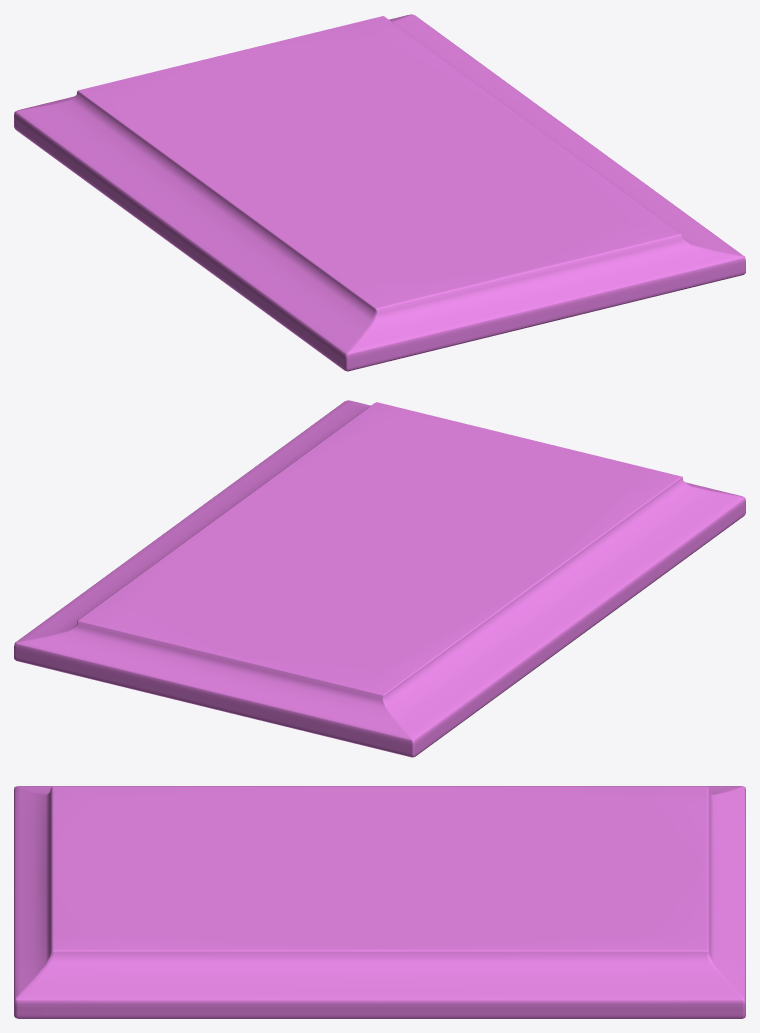
File: Poptart.fbx
The picture shows the model from 3 angles, top to bottom: view 1: azimuth 30°, elevation 25°; view 2: azimuth 150°, elevation 25°; view 3: azimuth 270°, elevation 25°; orthographic projection. The views are drawn at different scales.
Parts seen in each view (by area): view 1: Poptart01; view 2: Poptart01; view 3: Poptart01.
Boxes of the visible parts, x1=… form: Poptart01: x1=14, y1=14, x2=745, y2=371; Poptart01: x1=14, y1=400, x2=745, y2=757; Poptart01: x1=14, y1=786, x2=745, y2=1018.
Bounding box in the file's own units: 7.12 × 0.6832 × 10.25.
